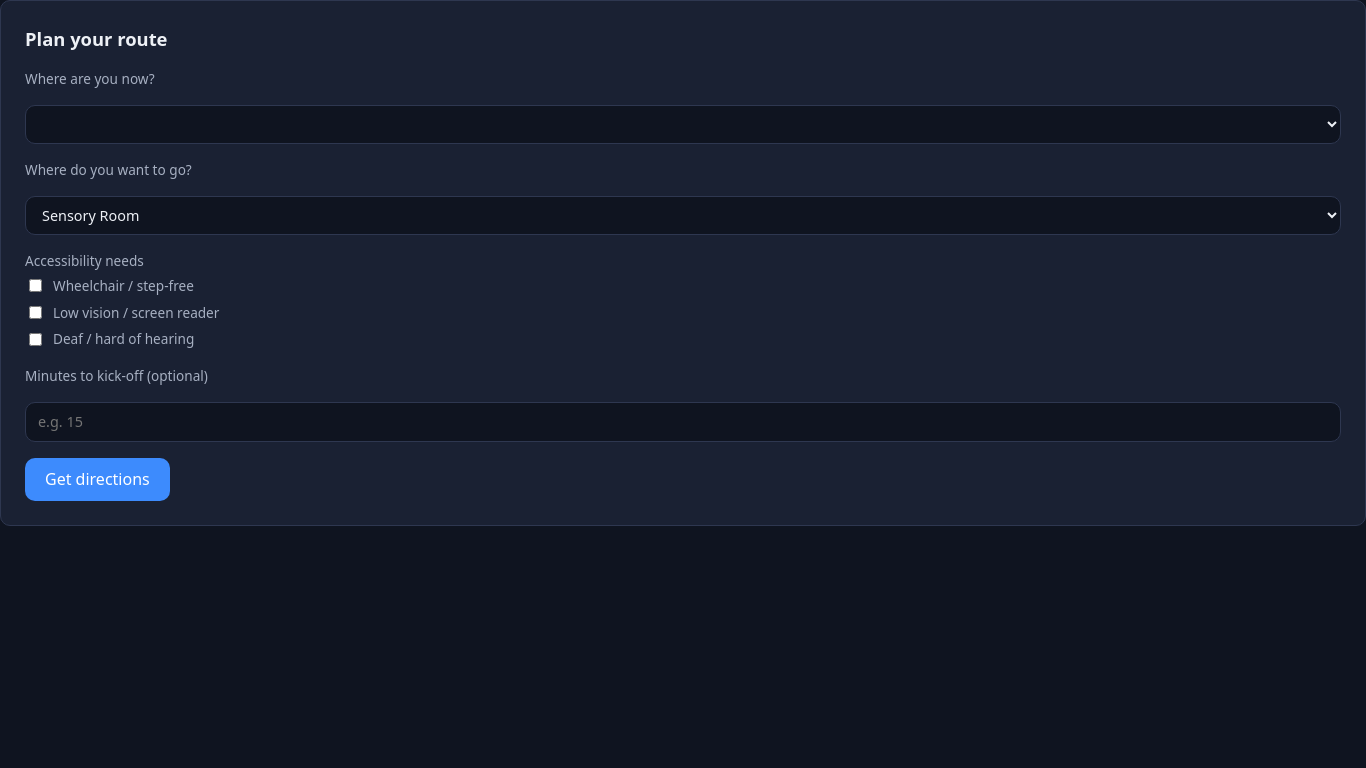
RoutePlanner › shows an error message when no gates are available
The width and height of the screenshot is (1366, 768).
Click the button "Get directions". click: (97, 479)
box: [25, 458, 170, 501]
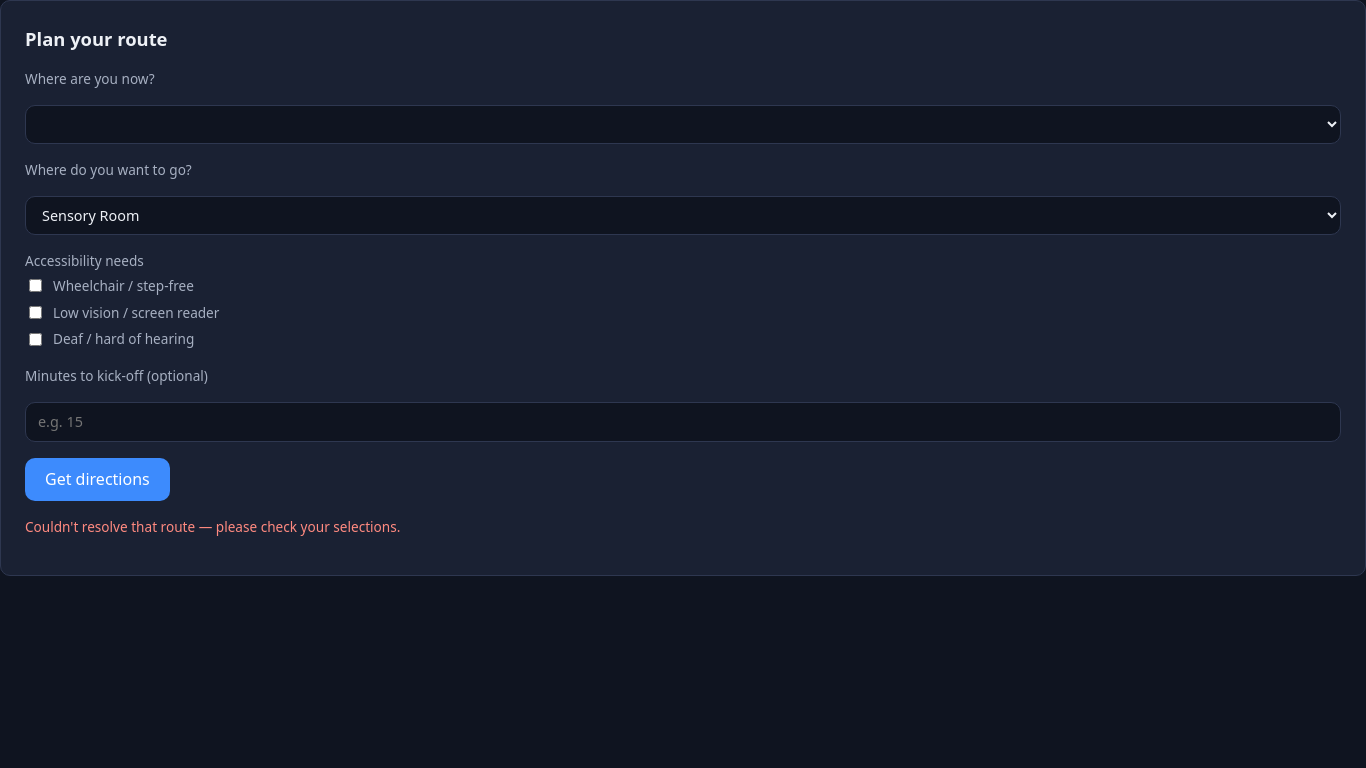
Result: the message "Couldn't resolve that route — please check your selections." is shown at [25, 517, 400, 536]
